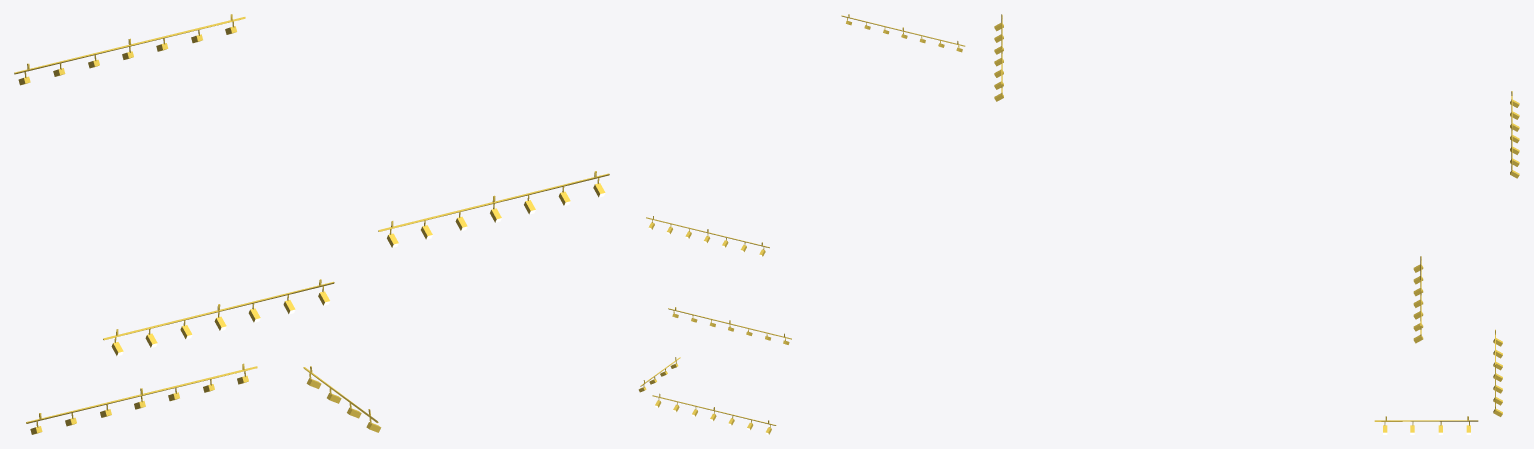
File: gallery lights2.glb
The picture shows the model from 3 angles, left to right: view 1: azimuth 30°, elevation 25°; view 2: azimuth 150°, elevation 25°; view 3: azimuth 270°, elevation 25°; orthographic projection. The views are drawn at different scales.
Visible parts, largest first — view 1: building.019; view 2: building.019; view 3: building.019.
Part boxes in pixels (box(x1,y1,x2,y2)): building.019: box(14, 14, 609, 434); building.019: box(638, 14, 965, 434); building.019: box(994, 14, 1519, 434).
Bounding box in the file's own units: 12.14 × 20.01 × 28.69.
